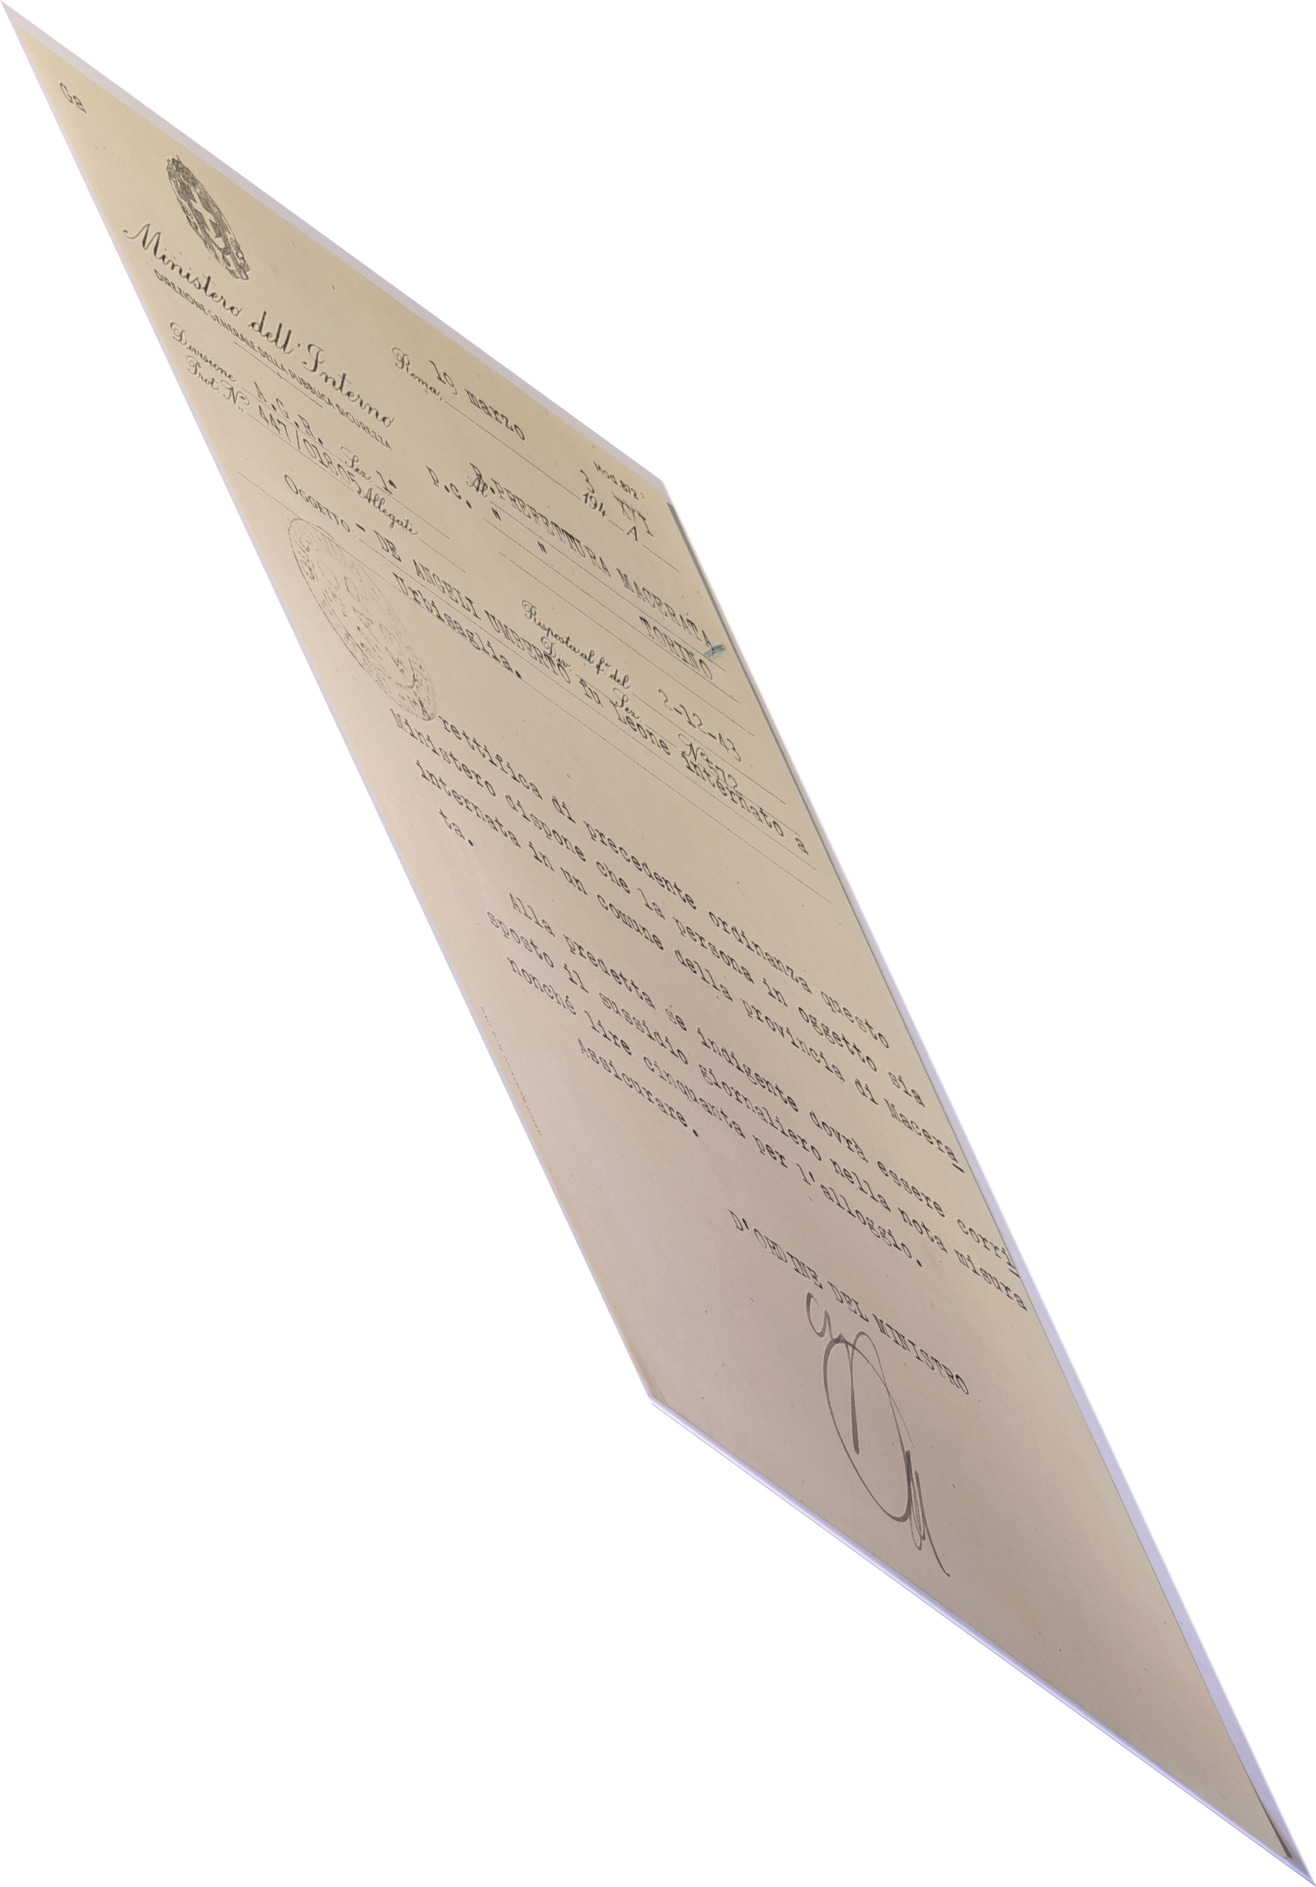stamp: (281, 510, 449, 723)
